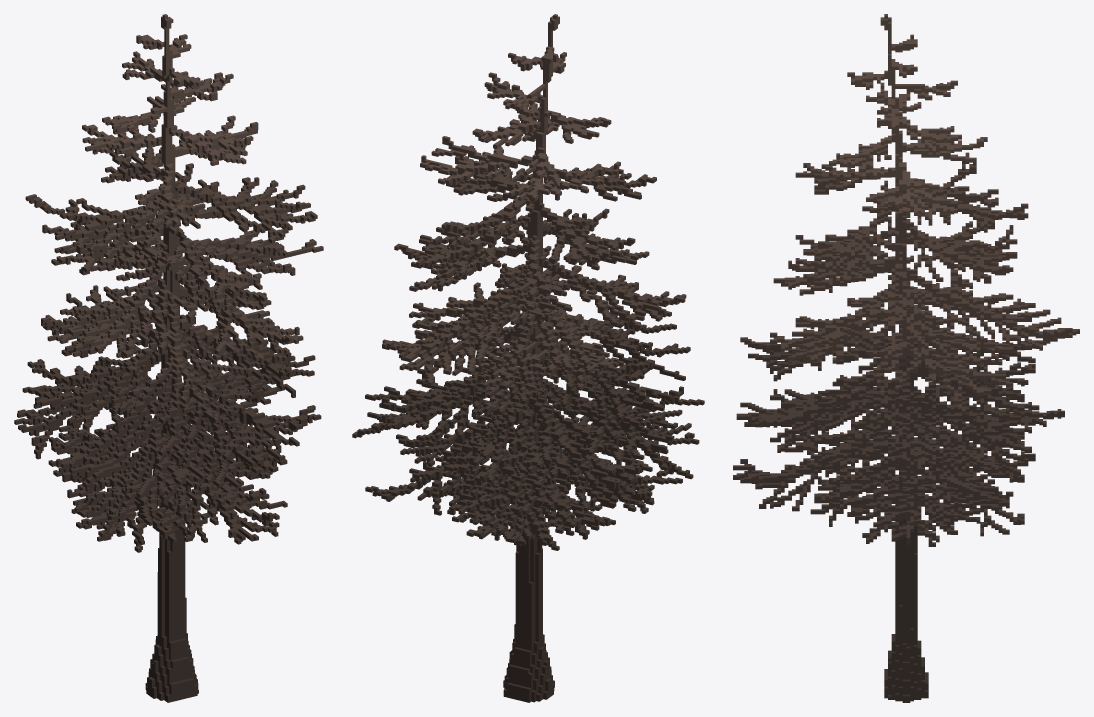
Rendered from 2_voxtree_trunk.obj.
The picture shows the model from 3 angles, left to right: view 1: azimuth 30°, elevation 25°; view 2: azimuth 150°, elevation 25°; view 3: azimuth 270°, elevation 25°; orthographic projection. The views are drawn at different scales.
Parts seen in each view (by area): view 1: blender_trunk; view 2: blender_trunk; view 3: blender_trunk.
Part boxes in pixels (bbox=[...]): blender_trunk: bbox=[14, 14, 323, 702]; blender_trunk: bbox=[352, 14, 704, 702]; blender_trunk: bbox=[733, 14, 1079, 702].
Bounding box in the file's own units: 8.9 × 20 × 9.4.
Materials: 1 (1 with a texture image).
